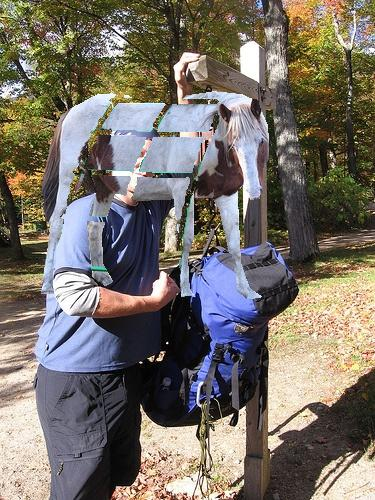tampered: (42, 92, 269, 299)
